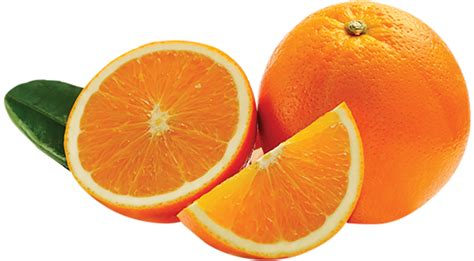orange: (256, 2, 474, 227)
